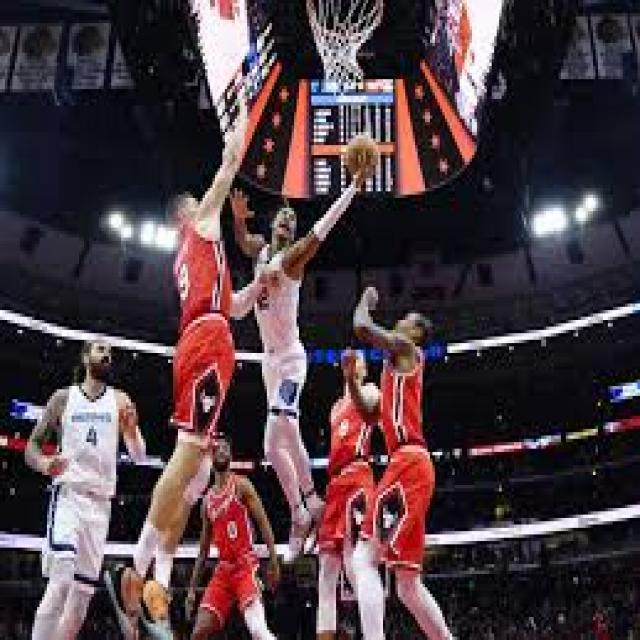rim: (346, 135, 378, 175)
